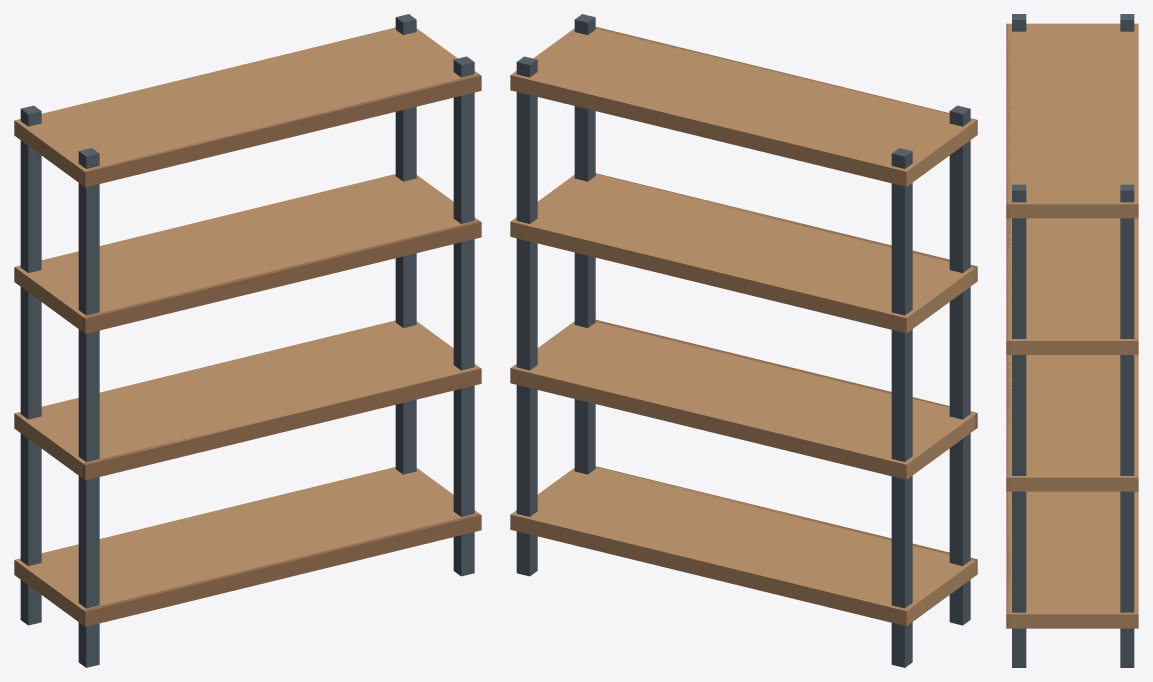
File: Shelf_Industrial_150.fbx
3 renders of one model, left to right at view 1: azimuth 30°, elevation 25°; view 2: azimuth 150°, elevation 25°; view 3: azimuth 270°, elevation 25°, orthographic. The views are drawn at different scales.
Parts seen in each view (by area): view 1: Shelf_Industrial_150; view 2: Shelf_Industrial_150; view 3: Shelf_Industrial_150.
Boxes of the visible parts, left/top/right/bottom form: Shelf_Industrial_150: left=14, top=14, right=481, bottom=667; Shelf_Industrial_150: left=510, top=14, right=977, bottom=667; Shelf_Industrial_150: left=1006, top=14, right=1138, bottom=667.
Bounding box in the file's own units: 1.5 × 1.85 × 0.465.
